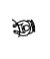Seat: (11, 19, 36, 38)
